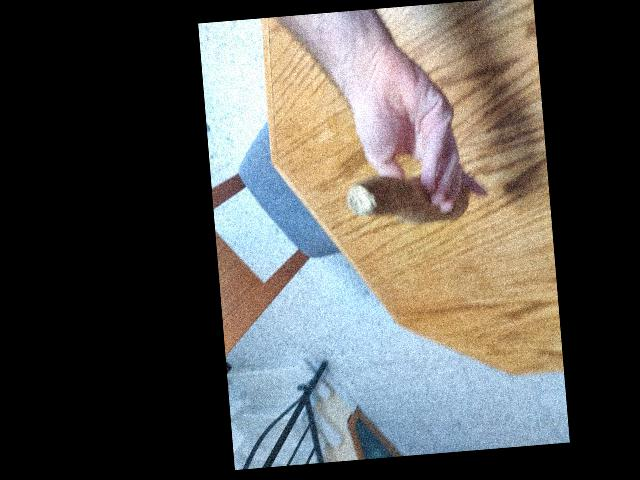sweet_potato: (366, 166, 464, 228)
